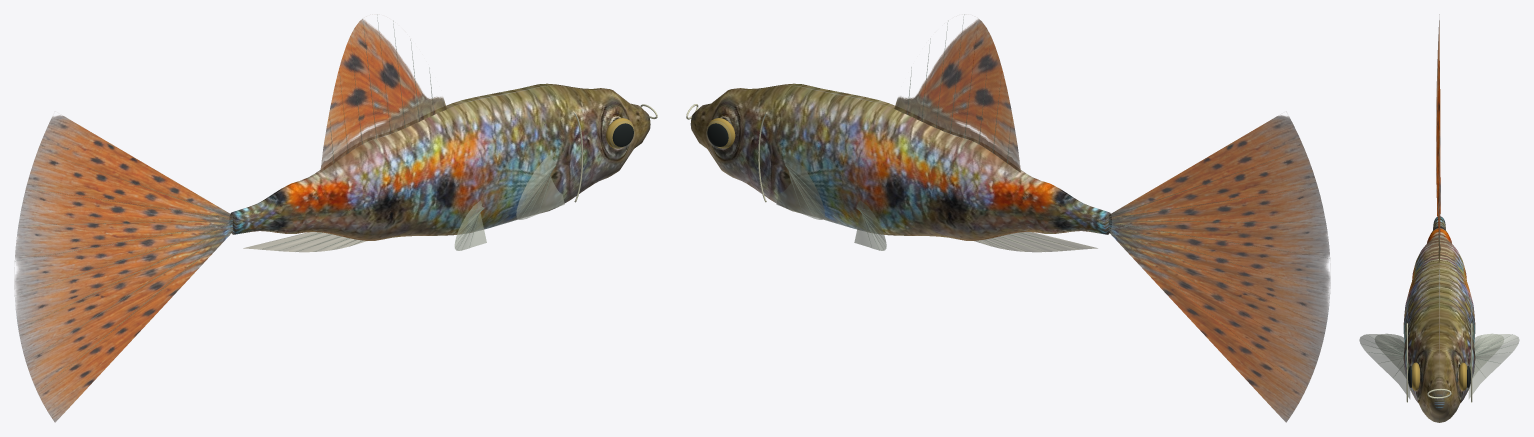
Rendered from guppy-mobile.glb.
3 renders of one model, left to right at view 1: azimuth 30°, elevation 25°; view 2: azimuth 150°, elevation 25°; view 3: azimuth 270°, elevation 25°, orthographic. The views are drawn at different scales.
Visible parts, largest first — view 1: skin, tail, dorsal, dorsal-ray, pectoral-right, anal, pelvic-right; view 2: tail, skin, dorsal, dorsal-ray, pectoral-left, anal, pelvic-left; view 3: skin, pectoral-left, pectoral-right, tail, pelvic-left, pelvic-right, dorsal-ray, operculum, eye-iris--1, dorsal.
Part boxes in pixels (bbox=[...]): skin: bbox=[230, 83, 650, 240]; tail: bbox=[14, 115, 232, 422]; dorsal: bbox=[320, 19, 446, 172]; dorsal-ray: bbox=[15, 14, 555, 392]; pectoral-right: bbox=[516, 151, 564, 219]; anal: bbox=[243, 232, 366, 252]; pelvic-right: bbox=[454, 200, 486, 250]; tail: bbox=[1108, 115, 1330, 422]; skin: bbox=[690, 83, 1111, 240]; dorsal: bbox=[894, 19, 1020, 172]; dorsal-ray: bbox=[785, 14, 1329, 389]; pectoral-left: bbox=[776, 151, 824, 219]; anal: bbox=[974, 232, 1097, 252]; pelvic-left: bbox=[854, 200, 886, 250]; skin: bbox=[1403, 216, 1475, 422]; pectoral-left: bbox=[1468, 334, 1519, 398]; pectoral-right: bbox=[1359, 334, 1410, 398]; tail: bbox=[1436, 14, 1440, 216]; pelvic-left: bbox=[1473, 333, 1503, 377]; pelvic-right: bbox=[1375, 333, 1405, 377]; dorsal-ray: bbox=[1361, 68, 1517, 375]; operculum: bbox=[1406, 323, 1472, 402]; eye-iris--1: bbox=[1411, 362, 1467, 390]; dorsal: bbox=[1438, 131, 1440, 262].
Size of the model in its own units: 0.5912 by 0.2931 by 0.1474.
Materials: 11 (3 with a texture image).
